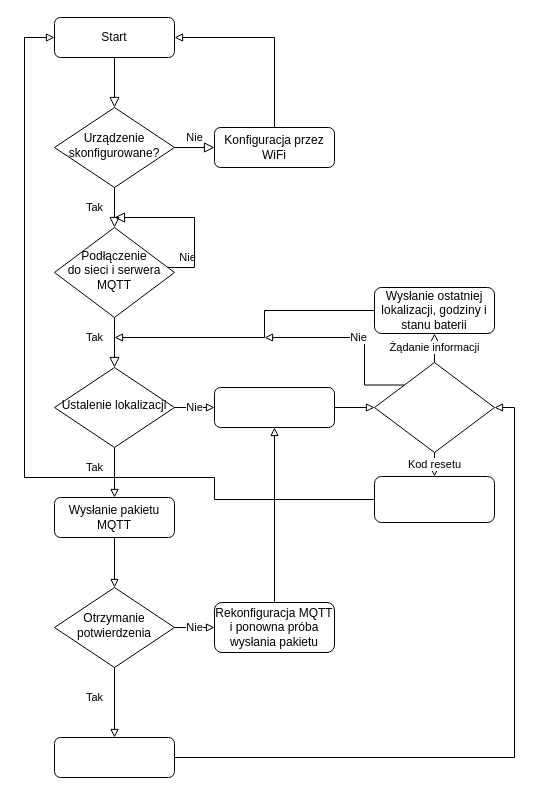
Image size: 540x795. Some labels were removed from this diagram. Here are the shapes that lost their labels. From the top down, the centre of each, then its label:
pixel 274 407: 1 min oczekiwania na komunikację SMS
pixel 434 407: Otrzymano SMS
pixel 434 499: Przywrócenie urządzenia do ustawień fabrynczych
pixel 114 757: 4 minut oczekiwania na komunikację SMS
